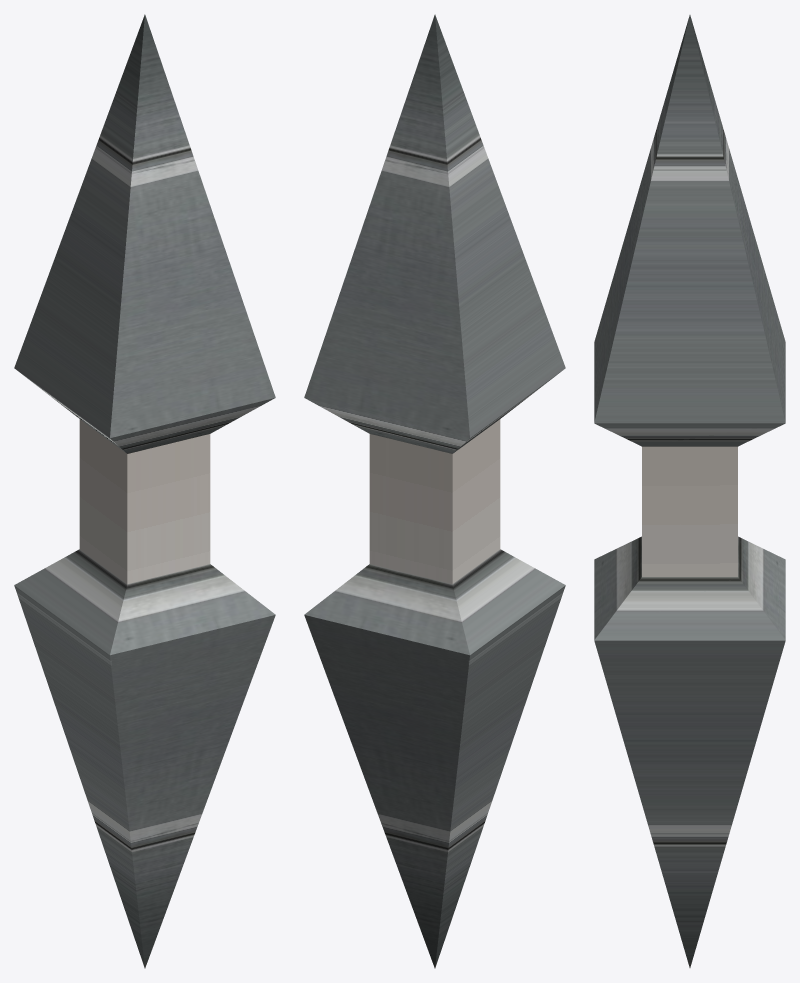
3 views of the same model, side by side, from view 1: azimuth 30°, elevation 25°; view 2: azimuth 150°, elevation 25°; view 3: azimuth 270°, elevation 25° (orthographic).
Visible parts, largest first — view 1: part01, part02, B_horn; view 2: part01, part02, B_horn; view 3: part01, part02, B_horn.
Part boxes in pixels (<box>): part01: <box>14,14,275,453</box>; part02: <box>14,549,275,968</box>; B_horn: <box>79,419,210,583</box>; part01: <box>304,14,565,453</box>; part02: <box>304,549,565,968</box>; B_horn: <box>369,419,500,584</box>; part01: <box>594,15,785,446</box>; part02: <box>594,536,785,967</box>; B_horn: <box>642,446,737,576</box>.
Bounding box in the file's own units: 46.79 × 257 × 46.79.
Materials: 2 (2 with a texture image).
